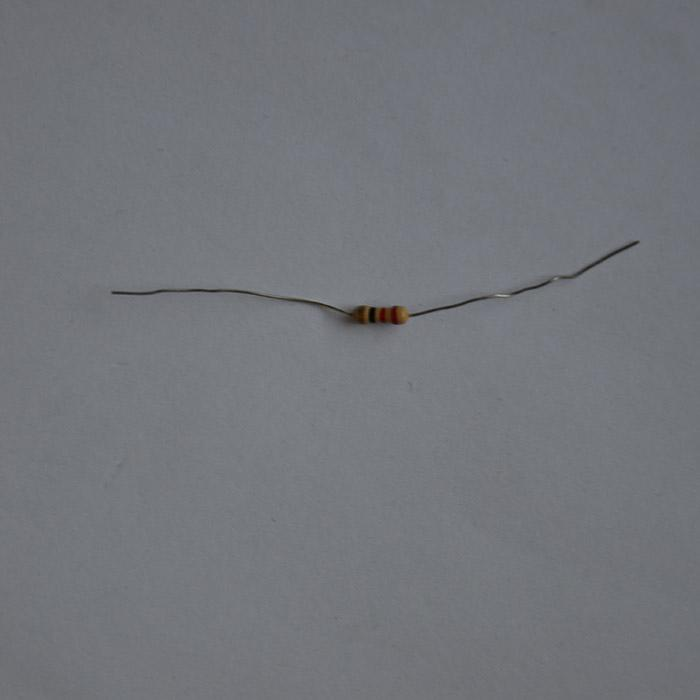resistor: (353, 305, 407, 324)
